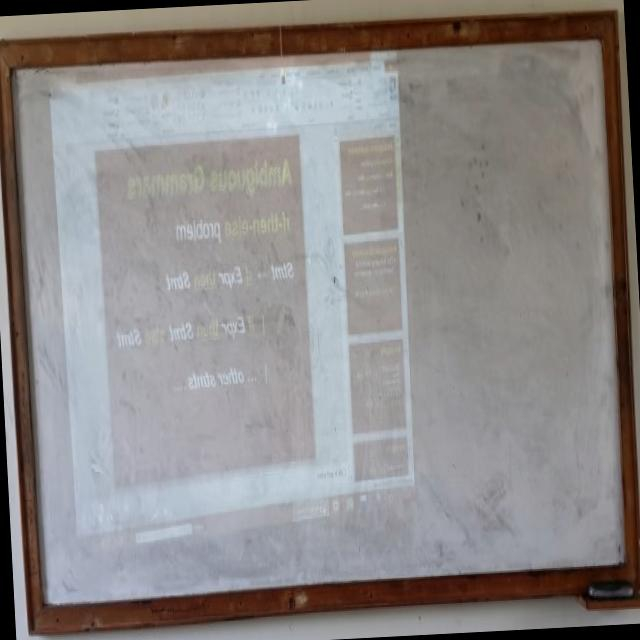Slide: (48, 48, 415, 565)
White-board: (1, 26, 638, 621)
